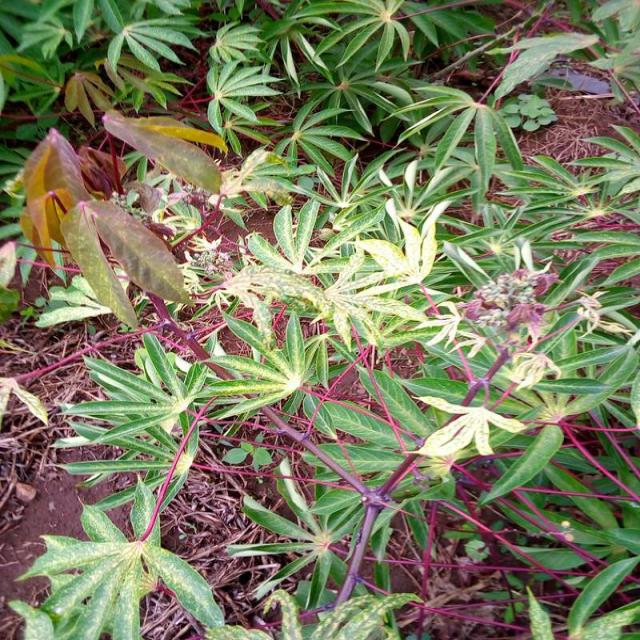cassava leaf: (3, 0, 638, 637), (8, 473, 224, 638), (100, 108, 224, 196)
